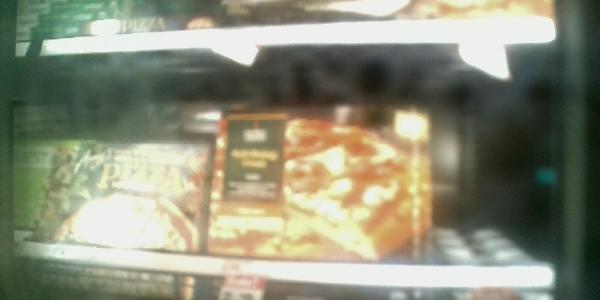pizza: (214, 108, 432, 270), (10, 137, 210, 255)
pizza1: (35, 105, 214, 132)
